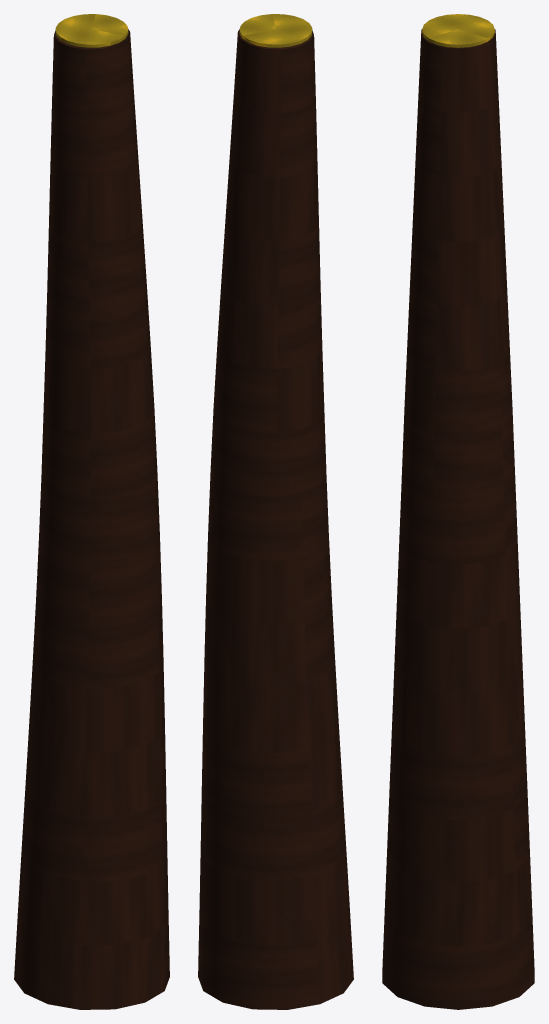
The model's file is underworld-flora-harvest-cinderstalk-felled.glb.
3 renders of one model, left to right at view 1: azimuth 30°, elevation 25°; view 2: azimuth 150°, elevation 25°; view 3: azimuth 270°, elevation 25°, orthographic.
Visible parts, largest first — view 1: cut-stalk, cut-face; view 2: cut-stalk, cut-face; view 3: cut-stalk, cut-face.
Part boxes in pixels (x1=…): cut-stalk: x1=14, y1=29, x2=169, y2=1009; cut-face: x1=55, y1=14, x2=128, y2=47; cut-stalk: x1=198, y1=29, x2=353, y2=1009; cut-face: x1=239, y1=14, x2=312, y2=47; cut-stalk: x1=382, y1=29, x2=534, y2=1009; cut-face: x1=422, y1=14, x2=494, y2=47.
Size of the model in its own units: 0.8998 by 6.03 by 0.8774.
2 materials, 2 textured.
